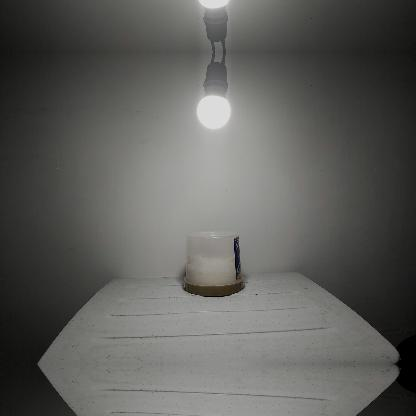Lady-s-Choice: (182, 228, 244, 296)
